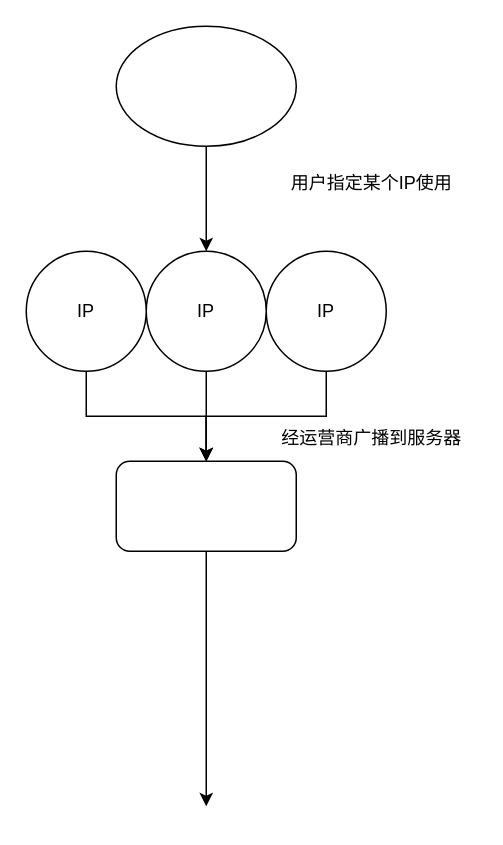
The diagram is 503 pixels wide and 845 high, and some of its shapes have lost their labels. Each missing label, with the box of its shape:
Users: (115, 25, 296, 146)
中转服务器: (115, 460, 296, 551)
